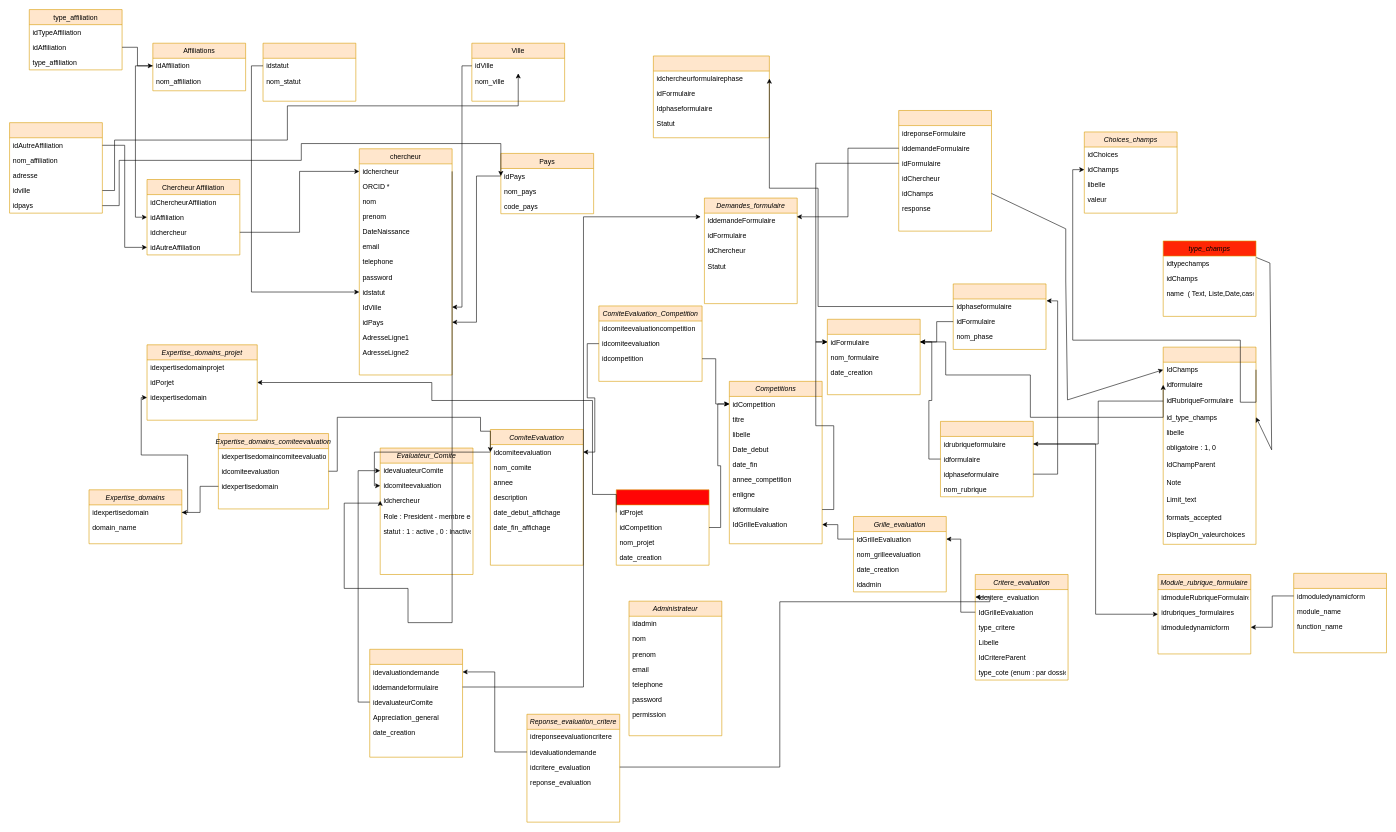
The diagram is 1396 pixels wide and 832 high, and some of its shapes have lost their labels. Here are the shapes that lost their labels. From the top down, the box of each, then its label:
(262, 43, 356, 101): StatutChercheur
(653, 55, 769, 138): Chercheur_formulaires_phases
(9, 122, 102, 213): Autres_affiliation
(898, 110, 992, 231): Reponses_formulaires
(953, 283, 1046, 349): Phases_formulaires
(827, 319, 920, 395): Formulaires
(940, 421, 1033, 497): Rubriques_formulaires
(1163, 347, 1256, 544): Champs_formulaire
(616, 489, 709, 565): projets
(1293, 573, 1386, 653): modules_dynamic_form
(369, 649, 463, 757): Evaluations_demandes
